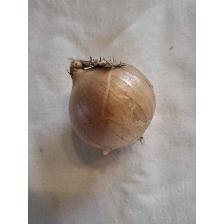Zwiebel: (66, 55, 158, 159)
